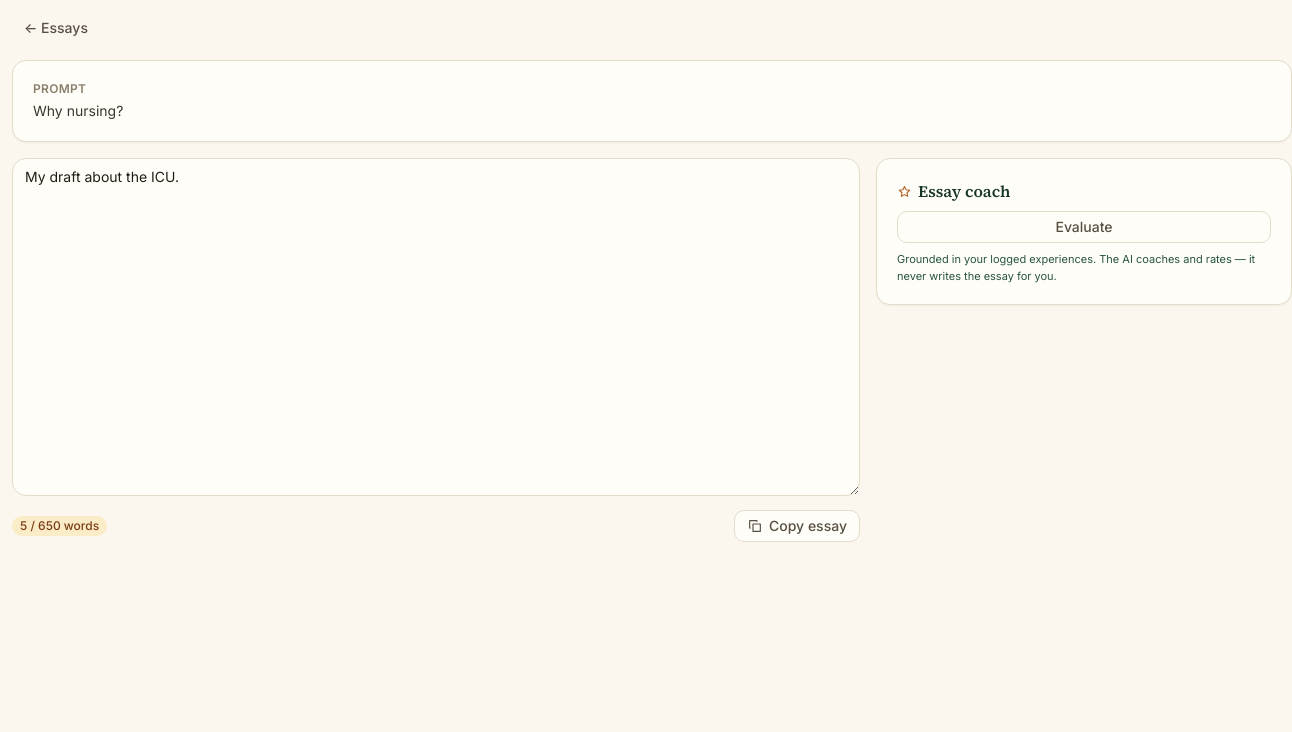
EssayWorkspace — essay coach › shows an error and returns to editing when the evaluation fails
Click the button "Evaluate" at (1084, 227), box [897, 211, 1271, 243]
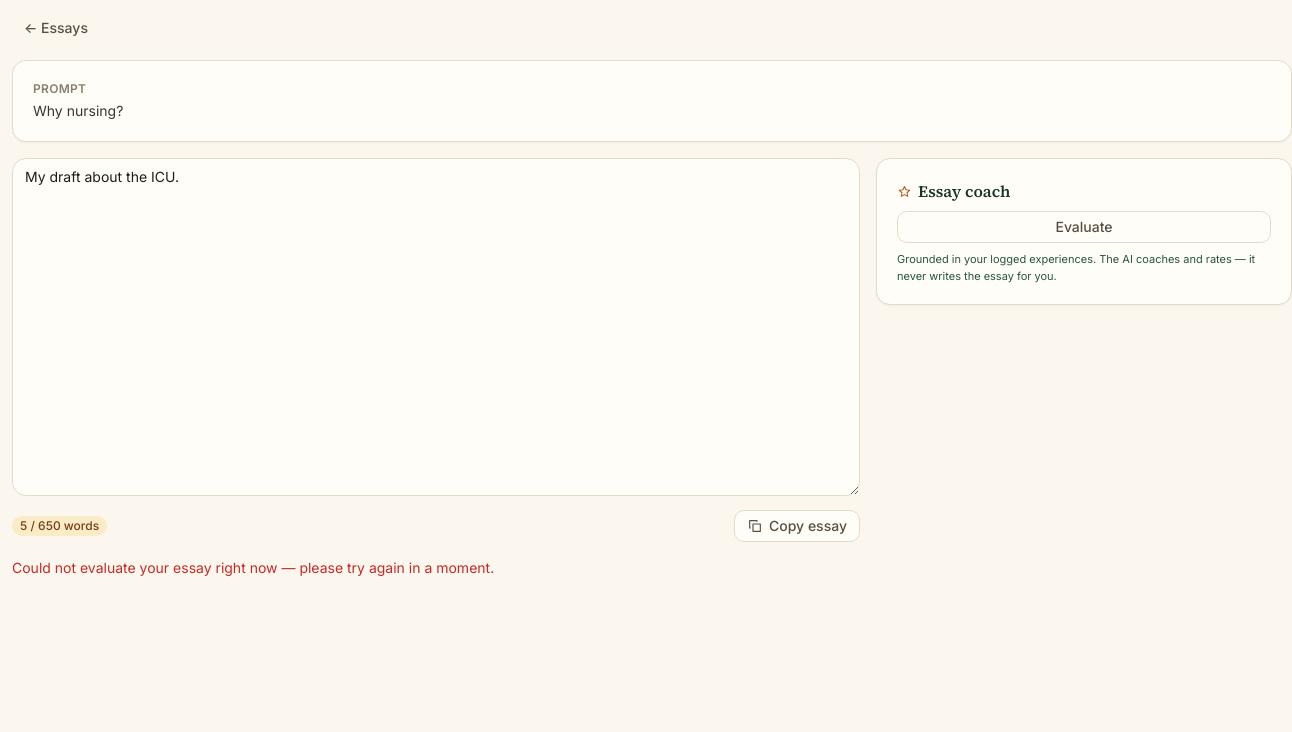
Expected: the text box with placeholder "Write your essay here…" holds "My draft about the ICU.", [12, 158, 860, 496]
Expected: the text "Could not evaluate" is shown, [12, 559, 494, 576]
